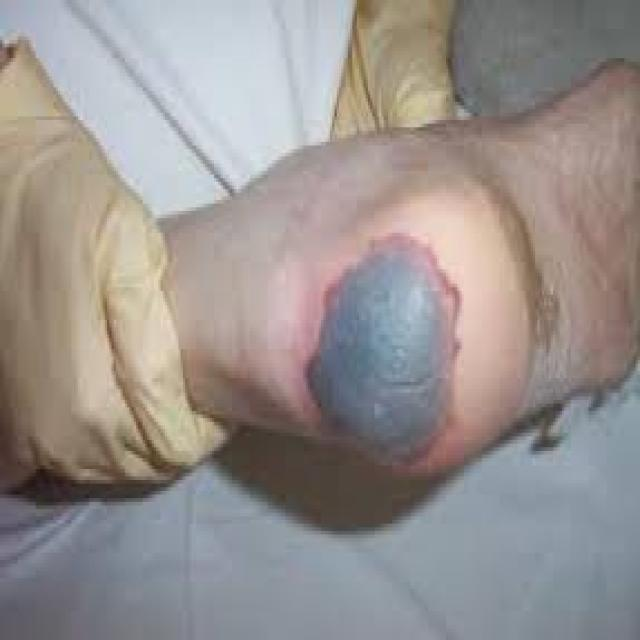DTI: (302, 233, 460, 461)
